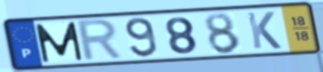8: (203, 11, 243, 55), (164, 16, 200, 55)
9: (124, 16, 159, 59)
K: (245, 10, 284, 50)
M: (32, 20, 85, 64)
R: (75, 17, 126, 64)
